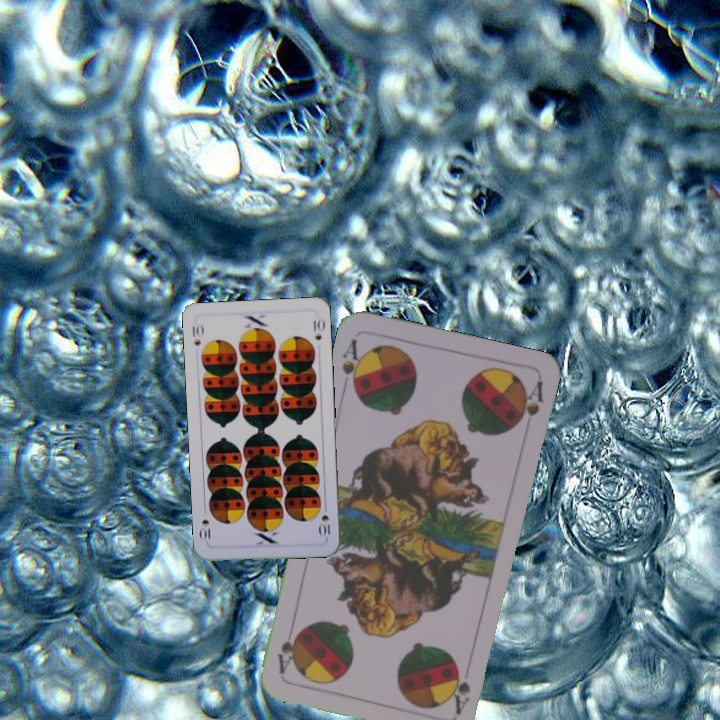S10: (316, 510, 333, 539), (188, 321, 206, 348)
SA: (338, 335, 366, 394), (450, 667, 473, 716)
